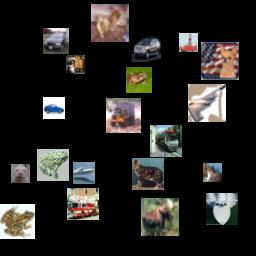airplane: (188, 84, 226, 122)
automobile: (132, 33, 161, 62), (43, 28, 69, 54), (43, 97, 65, 119)
cat: (132, 158, 164, 190), (203, 163, 222, 182)
deer: (141, 198, 179, 236)
dog: (91, 4, 129, 42), (201, 42, 239, 80), (11, 164, 30, 183)
frog: (0, 204, 35, 239), (37, 149, 69, 181), (126, 67, 152, 93)
ship: (206, 193, 238, 225), (73, 162, 95, 184), (179, 33, 198, 52)
truck: (106, 98, 141, 133), (67, 188, 99, 220), (150, 125, 182, 157), (66, 55, 85, 74)
